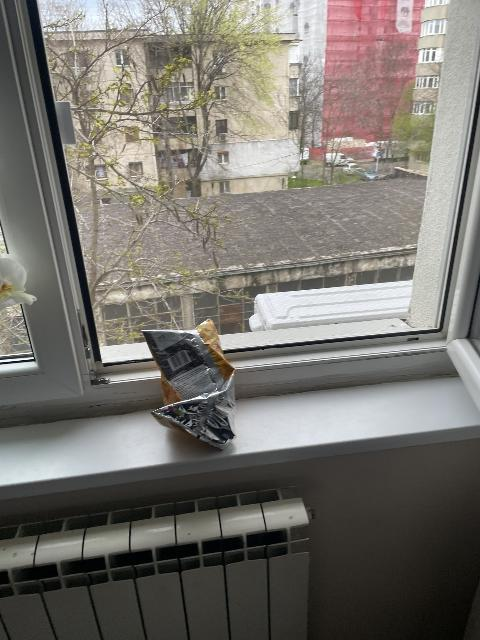Chio Hula Hoops Cheese 70g: (142, 322, 239, 447)
